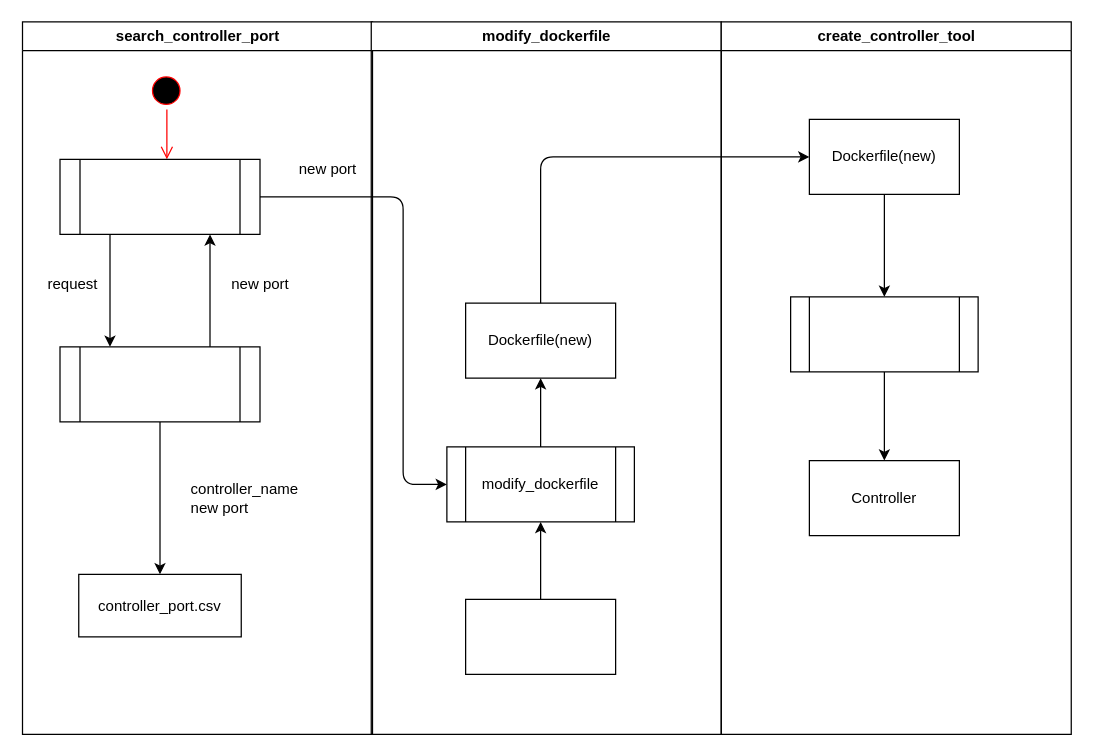
This 1093x756 diagram has some shape labels left out. The shapes that lost their labels are listed below. From the top down, each one's centre as x and y in pixels, then its label:
the point at 159,196: modify_dockerfile_port
the point at 883,334: create_controller
the point at 159,384: check_no_same_port
the point at 540,636: Dockerfile( original )
